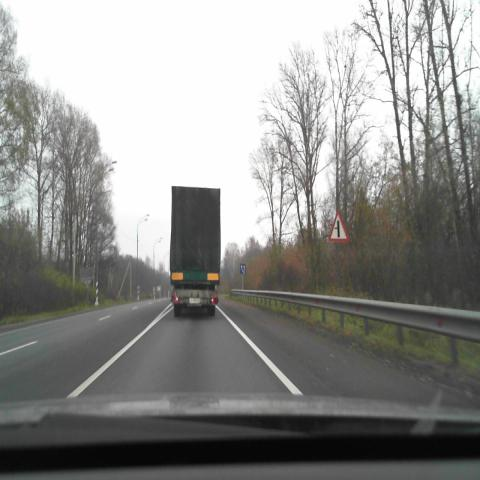2_3_3: (328, 209, 350, 242)
